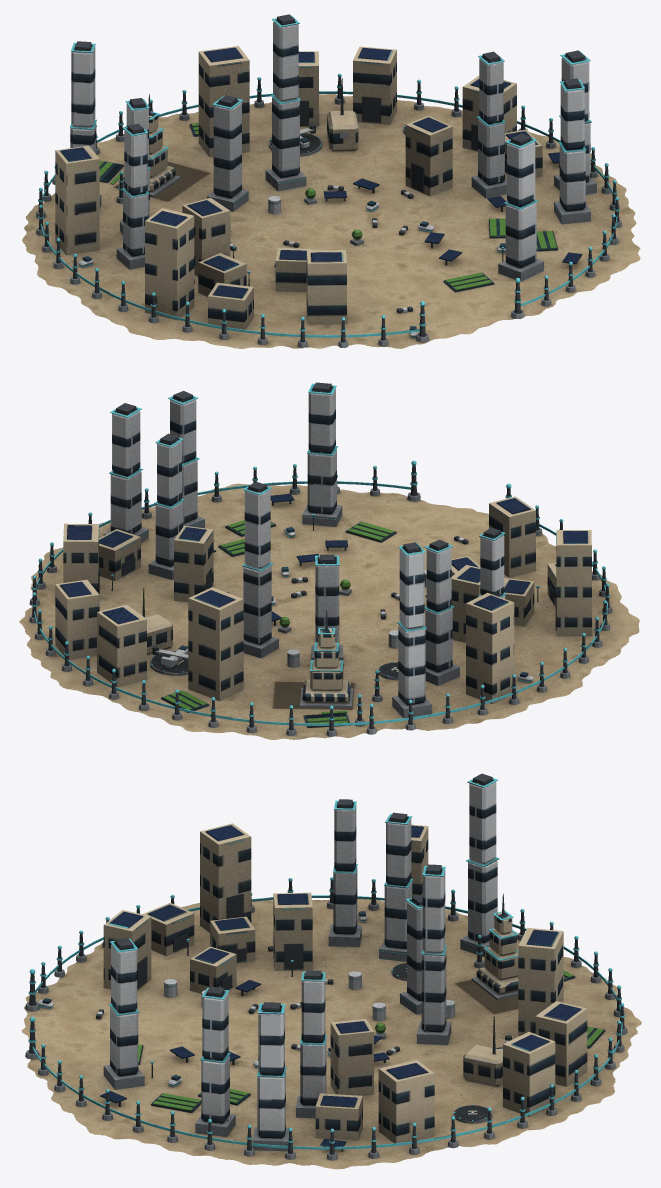
Rendered from future-town-big-b-levant.glb.
3 views of the same model, one above another, from view 1: azimuth 30°, elevation 25°; view 2: azimuth 150°, elevation 25°; view 3: azimuth 270°, elevation 25° (orthographic). The views are drawn at different scales.
Parts seen in each view (by area): view 1: LOD0; view 2: LOD0; view 3: LOD0.
Boxes of the visible parts, left/top/right/bottom form: LOD0: left=22, top=14, right=640, bottom=348; LOD0: left=19, top=382, right=639, bottom=739; LOD0: left=21, top=773, right=641, bottom=1169.
Size of what is drawn, in the model's own units: 7.96 by 2.3 by 7.66.
3 materials, 3 textured.
